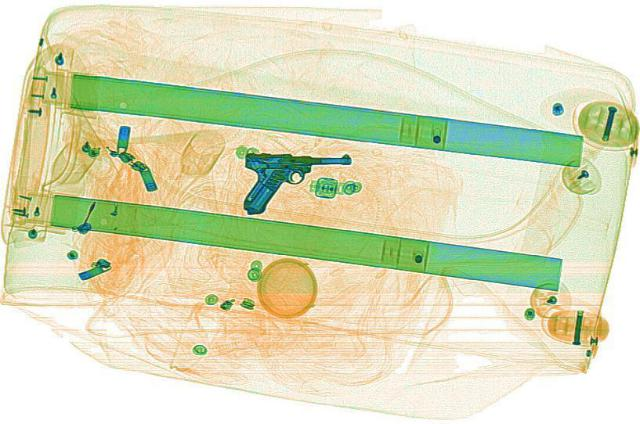Gun: (241, 152, 351, 212)
